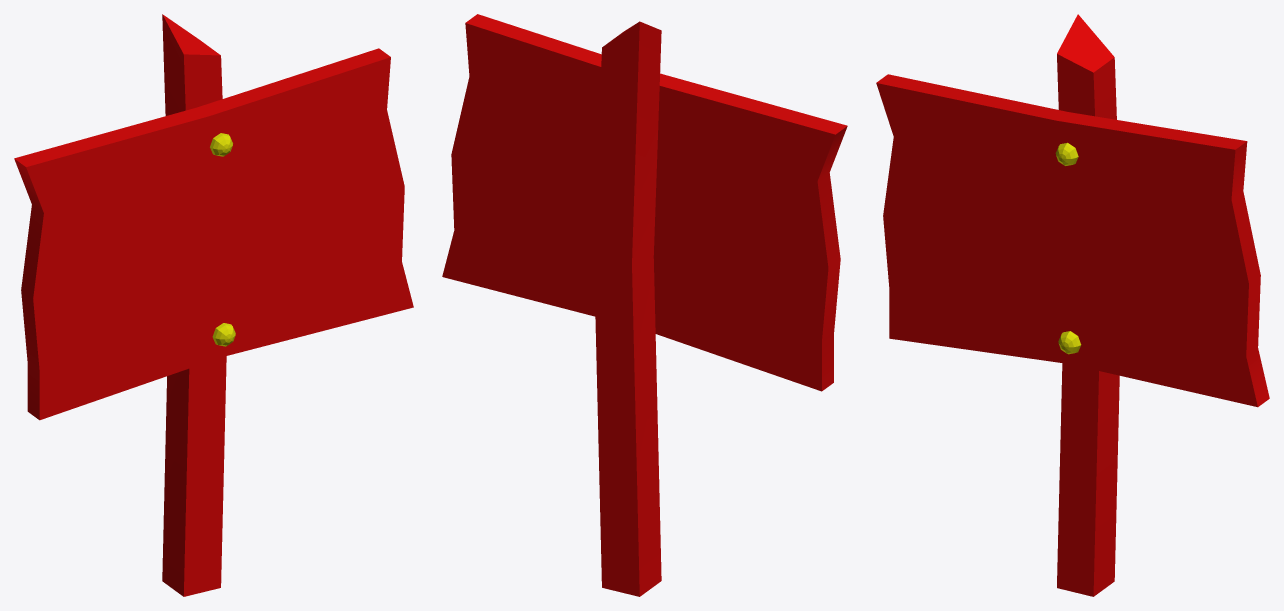
Rendered from sign fbx backup.fbx.
3 views of the same model, side by side, from view 1: azimuth 30°, elevation 25°; view 2: azimuth 150°, elevation 25°; view 3: azimuth 330°, elevation 25° (orthographic). The views are drawn at different scales.
Visible parts, largest first — view 1: sign; view 2: sign; view 3: sign.
Boxes of the visible parts, left/top/right/bottom form: sign: left=14, top=14, right=413, bottom=596; sign: left=442, top=14, right=847, bottom=596; sign: left=876, top=14, right=1269, bottom=596.
Size of the model in its own units: 1.7 by 2.38 by 0.3079.
